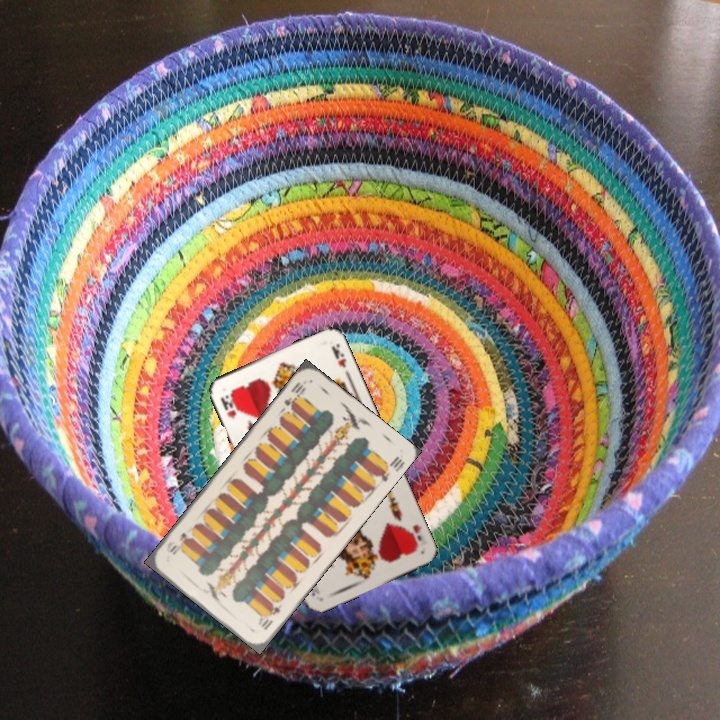E10: (280, 378, 309, 412), (257, 601, 284, 633)
HK: (216, 390, 240, 422), (403, 520, 424, 553)
